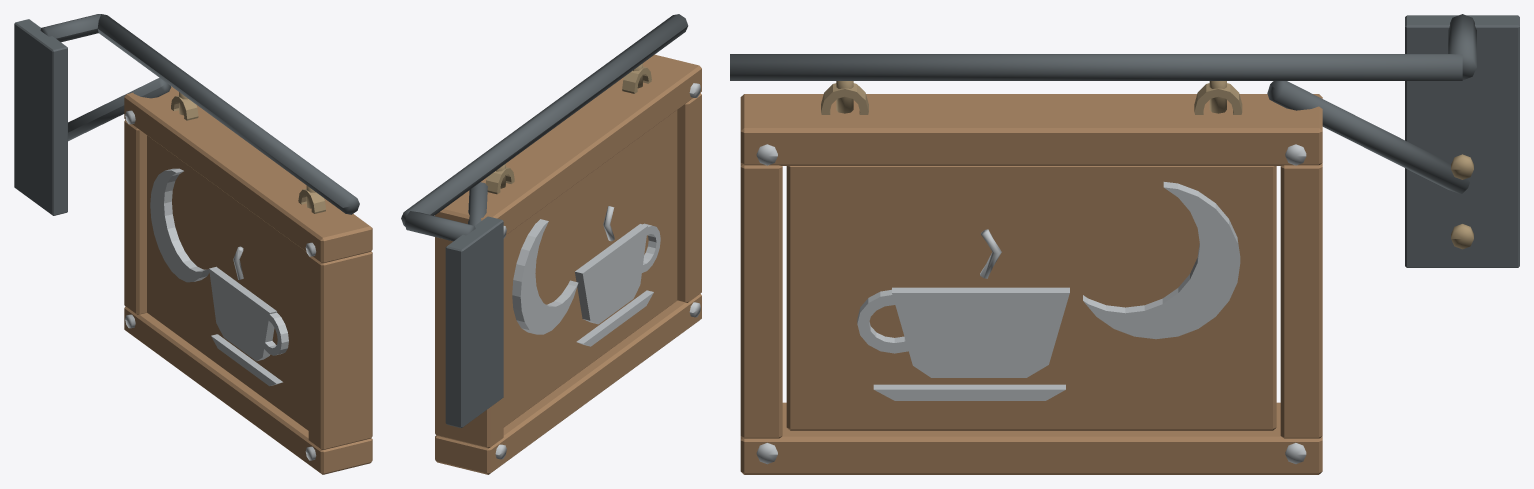
Rendered from yokocho-moon-tea-sign.glb.
3 views of the same model, side by side, from view 1: azimuth 30°, elevation 25°; view 2: azimuth 150°, elevation 25°; view 3: azimuth 270°, elevation 25° (orthographic). The views are drawn at different scales.
Parts seen in each view (by area): view 1: Shops/S05/ProjectingSigns/MoonTeaTimberAssembly__Food_Chestn, Shops/S05/ProjectingSigns/MoonTeaTimberAssembly__Iron, Shops/S05/ProjectingSigns/MoonTeaTimberAssembly__Food_PaleJo, Shops/S05/ProjectingSigns/MoonTeaTimberAssembly__Bronze; view 2: Shops/S05/ProjectingSigns/MoonTeaTimberAssembly__Food_Chestn, Shops/S05/ProjectingSigns/MoonTeaTimberAssembly__Iron, Shops/S05/ProjectingSigns/MoonTeaTimberAssembly__Food_PaleJo, Shops/S05/ProjectingSigns/MoonTeaTimberAssembly__Bronze; view 3: Shops/S05/ProjectingSigns/MoonTeaTimberAssembly__Food_Chestn, Shops/S05/ProjectingSigns/MoonTeaTimberAssembly__Iron, Shops/S05/ProjectingSigns/MoonTeaTimberAssembly__Food_PaleJo, Shops/S05/ProjectingSigns/MoonTeaTimberAssembly__Bronze.
Part boxes in pixels (x1,y1,x2,y2): Shops/S05/ProjectingSigns/MoonTeaTimberAssembly__Food_Chestn: [124, 86, 372, 474]; Shops/S05/ProjectingSigns/MoonTeaTimberAssembly__Iron: [14, 14, 359, 215]; Shops/S05/ProjectingSigns/MoonTeaTimberAssembly__Food_PaleJo: [125, 110, 316, 460]; Shops/S05/ProjectingSigns/MoonTeaTimberAssembly__Bronze: [171, 92, 325, 213]; Shops/S05/ProjectingSigns/MoonTeaTimberAssembly__Food_Chestn: [435, 54, 701, 474]; Shops/S05/ProjectingSigns/MoonTeaTimberAssembly__Iron: [401, 14, 688, 427]; Shops/S05/ProjectingSigns/MoonTeaTimberAssembly__Food_PaleJo: [495, 83, 700, 459]; Shops/S05/ProjectingSigns/MoonTeaTimberAssembly__Bronze: [485, 63, 651, 194]; Shops/S05/ProjectingSigns/MoonTeaTimberAssembly__Food_Chestn: [740, 94, 1322, 474]; Shops/S05/ProjectingSigns/MoonTeaTimberAssembly__Iron: [730, 14, 1519, 267]; Shops/S05/ProjectingSigns/MoonTeaTimberAssembly__Food_PaleJo: [756, 144, 1306, 464]; Shops/S05/ProjectingSigns/MoonTeaTimberAssembly__Bronze: [821, 81, 1473, 249].
Size of the model in its own units: 0.172 by 0.465 by 0.825.
